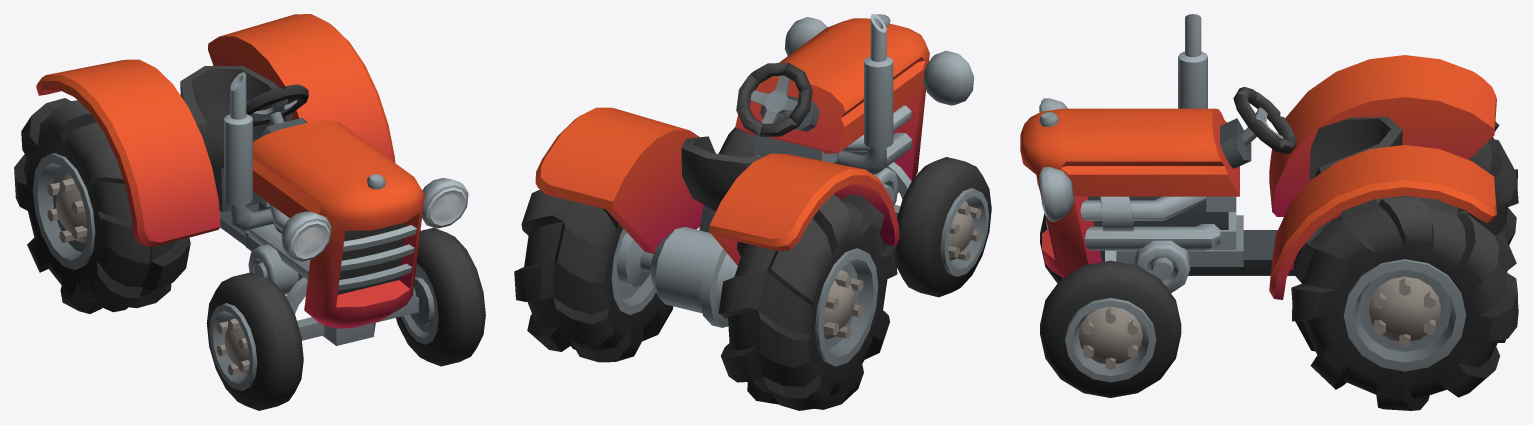
The model's file is vehicle_tractor.glb.
The picture shows the model from 3 angles, left to right: view 1: azimuth 30°, elevation 25°; view 2: azimuth 150°, elevation 25°; view 3: azimuth 270°, elevation 25°; orthographic projection. The views are drawn at different scales.
Parts seen in each view (by area): view 1: Cube.250, tractor_wheel_rear_right, tractor_wheel_front_right, tractor_wheel_front_left, tractor_steeringwheel; view 2: Cube.250, tractor_wheel_rear_right, tractor_wheel_rear_left, tractor_wheel_front_right, tractor_steeringwheel, tractor_wheel_front_left; view 3: Cube.250, tractor_wheel_rear_left, tractor_wheel_front_left, tractor_wheel_rear_right, tractor_steeringwheel.
Part boxes in pixels (x1,y1,x2,y2): Cube.250: [36, 14, 468, 345]; tractor_wheel_rear_right: [14, 98, 190, 313]; tractor_wheel_front_right: [206, 272, 303, 410]; tractor_wheel_front_left: [396, 227, 485, 366]; tractor_steeringwheel: [246, 84, 308, 126]; Cube.250: [535, 14, 973, 327]; tractor_wheel_rear_right: [718, 194, 897, 410]; tractor_wheel_rear_left: [514, 189, 673, 362]; tractor_wheel_front_right: [895, 157, 991, 297]; tractor_steeringwheel: [736, 62, 812, 136]; tractor_wheel_front_left: [718, 127, 755, 157]; Cube.250: [1020, 14, 1496, 299]; tractor_wheel_rear_left: [1291, 196, 1518, 410]; tractor_wheel_front_left: [1040, 260, 1181, 397]; tractor_wheel_rear_right: [1468, 121, 1518, 244]; tractor_steeringwheel: [1233, 87, 1296, 154].
Bounding box in the file's own units: 2.85 × 2.81 × 4.17.
Materials: 1 (1 with a texture image).
